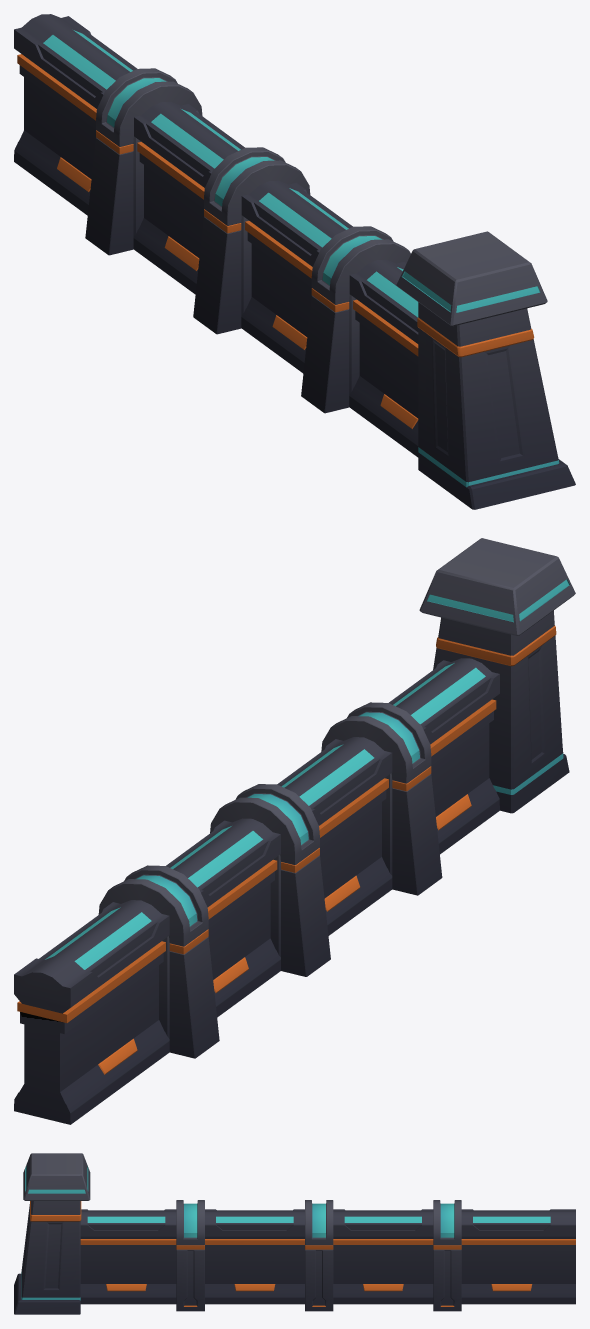
Rendered from Futuer_wall_01.fbx.
3 renders of one model, top to bottom at view 1: azimuth 30°, elevation 25°; view 2: azimuth 150°, elevation 25°; view 3: azimuth 270°, elevation 25°, orthographic. The views are drawn at different scales.
Visible parts, largest first — view 1: Future_wall01; view 2: Future_wall01; view 3: Future_wall01.
Boxes of the visible parts, <box> form: Future_wall01: <box>14,14,575,509</box>; Future_wall01: <box>14,538,575,1124</box>; Future_wall01: <box>14,1153,575,1314</box>.
Size of the model in its own units: 31.25 by 55.83 by 217.
1 material, 1 textured.
